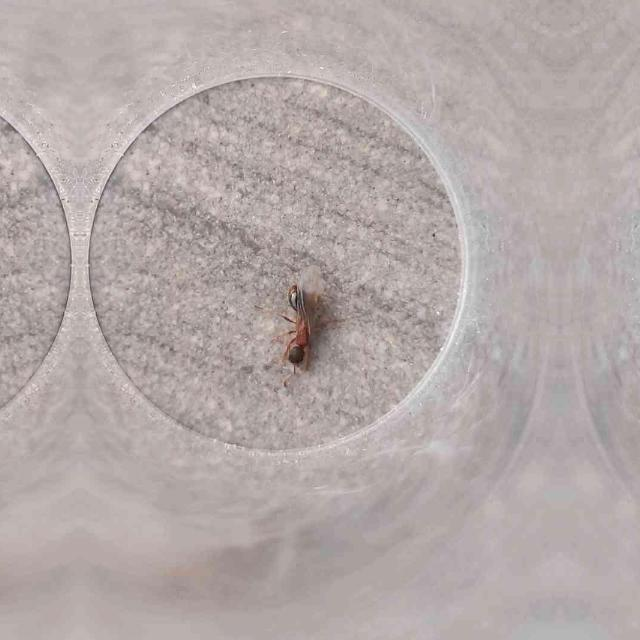Myrmica: (276, 274, 326, 376)
